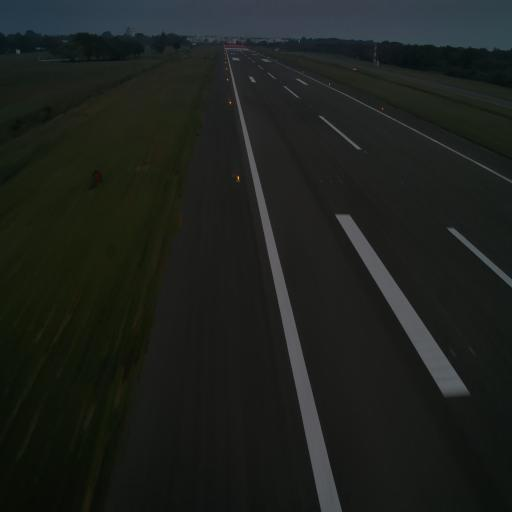off: (448, 342, 457, 362), (467, 342, 477, 357), (318, 176, 324, 186), (339, 176, 343, 187), (363, 148, 368, 156), (400, 179, 404, 187), (328, 178, 332, 185)
on: (235, 173, 241, 184), (381, 105, 385, 113)
